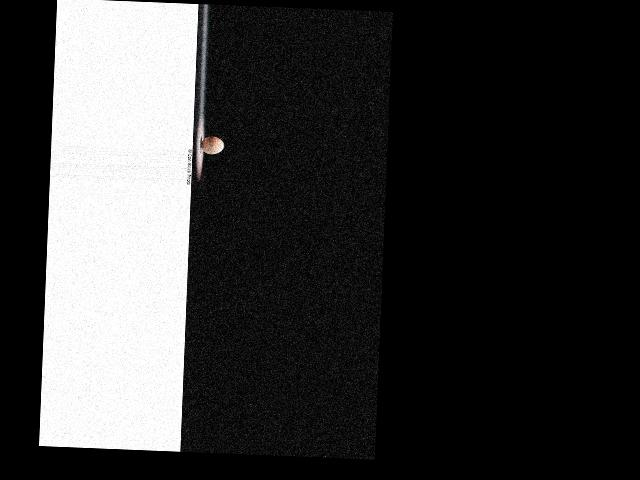egg: (200, 135, 224, 155)
